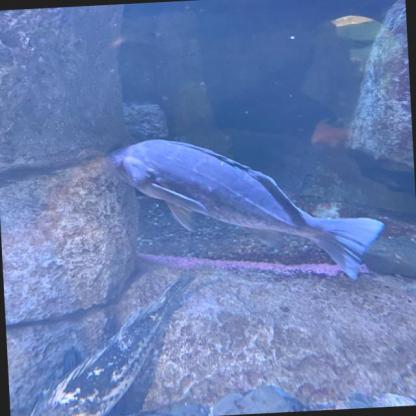fish: (104, 128, 387, 294), (15, 272, 201, 415)
